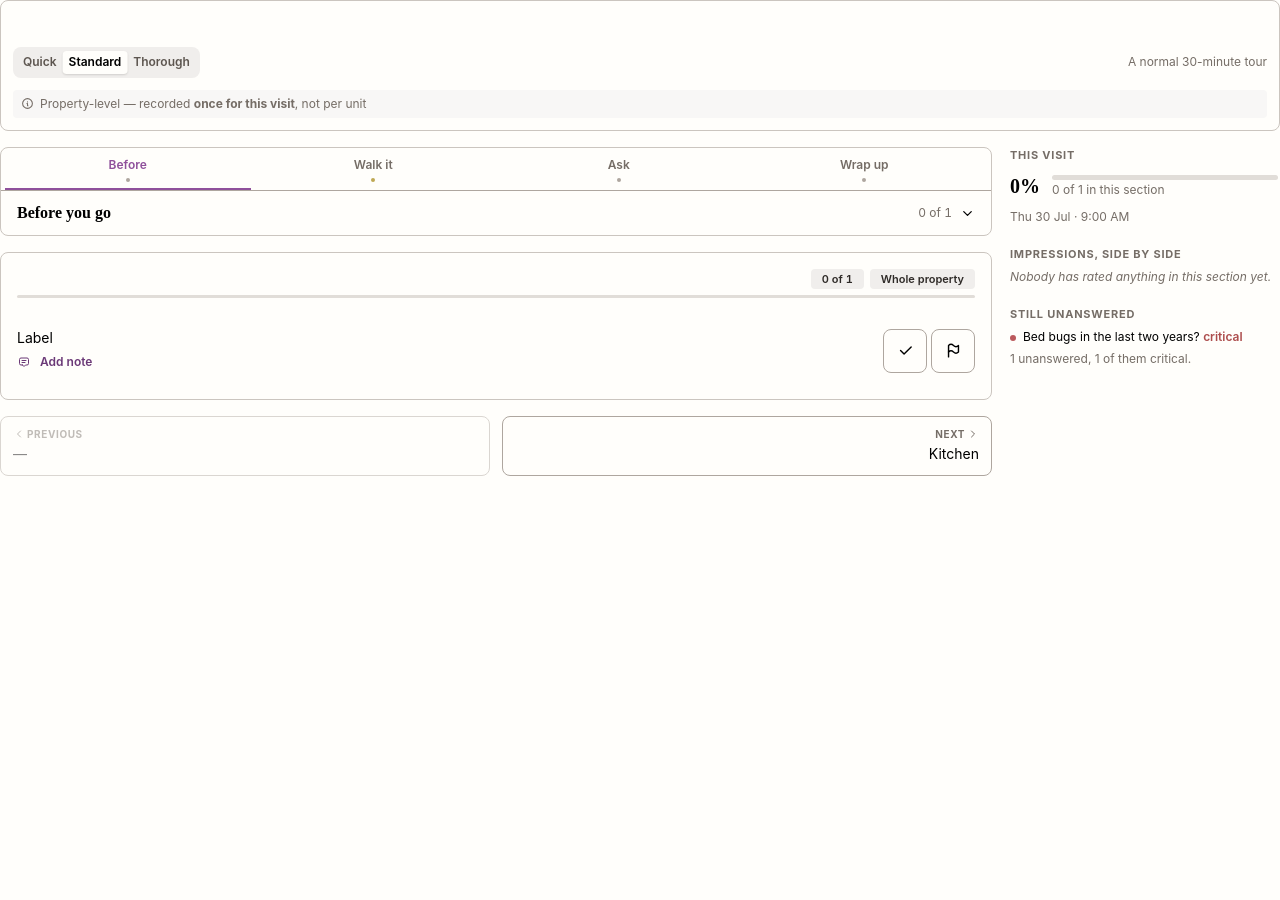
Test: progress › counts answered items per section against the active unit
What coordinates should you click on to do the following:
click the button "Before you go 0 of 1"
I would click on:
 (64, 212)
Its box is [13,191,979,235].
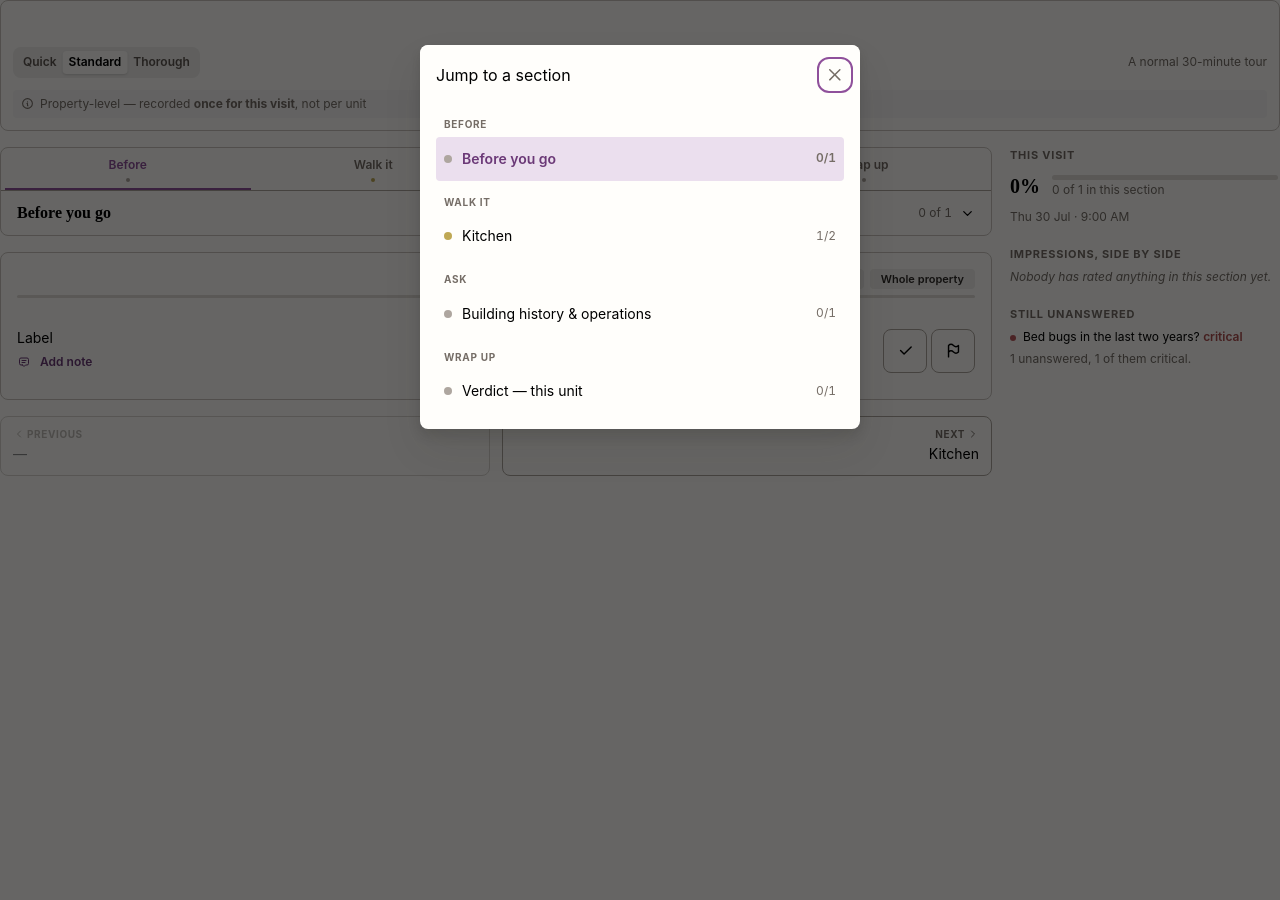
What coordinates should you click on to do the following:
click the button "Kitchen 1/2"
I would click on:
 (487, 236)
Its box is [436,214,844,258].
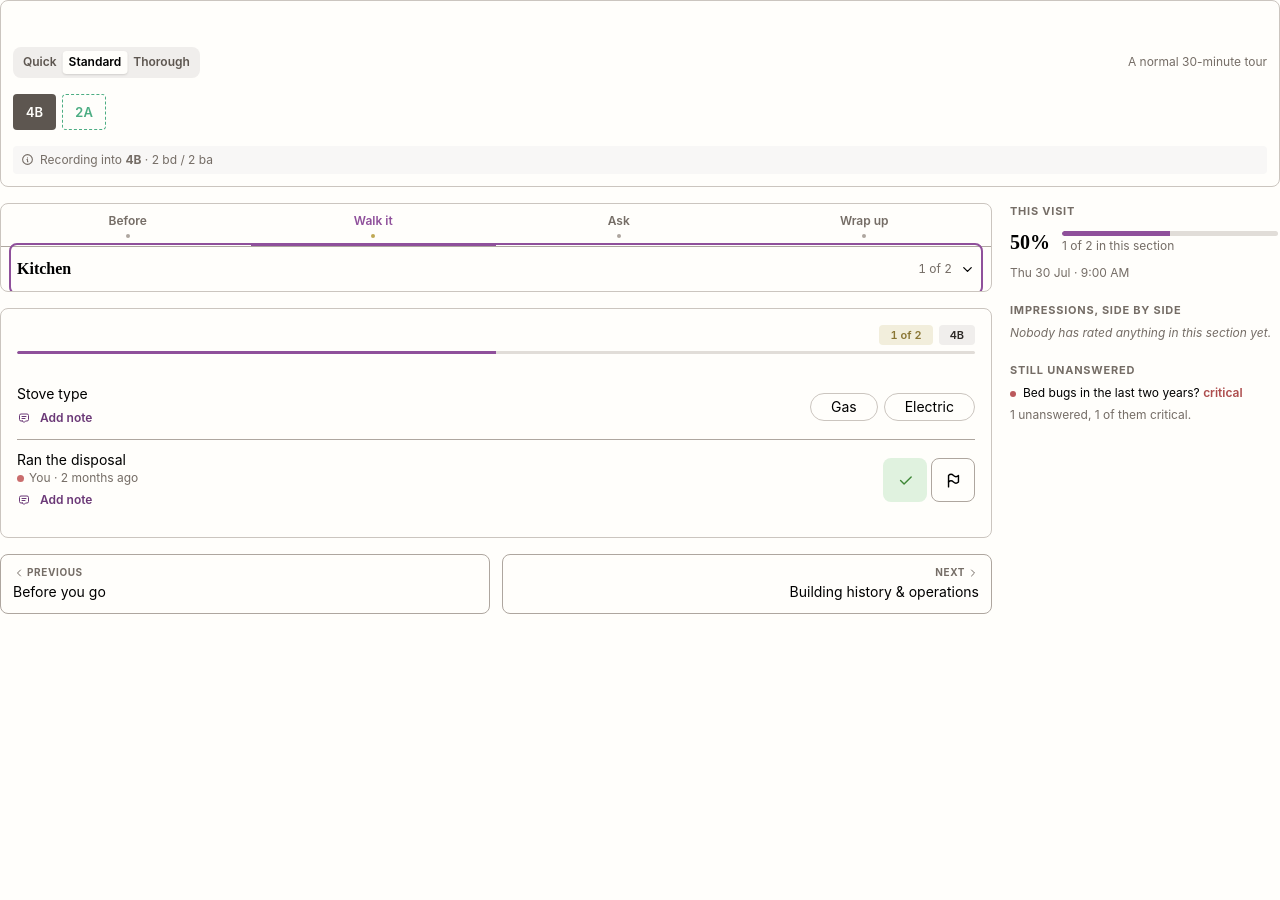
expect the 1st text "1 of 2" is shown: met, box [918,260,952,279]
